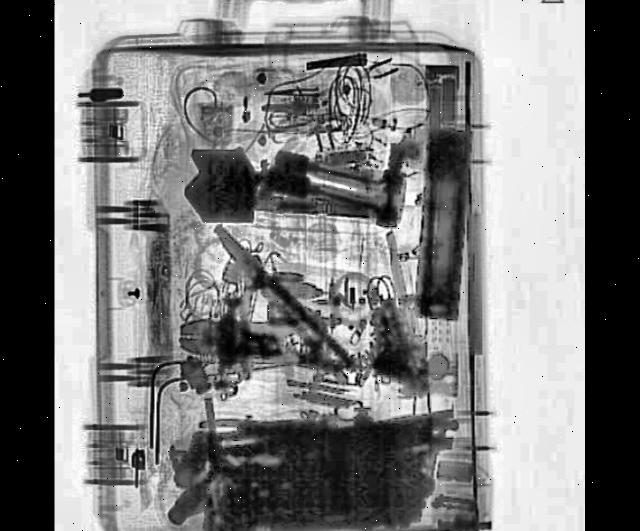Pliers: (205, 220, 358, 390), (177, 316, 356, 372)
